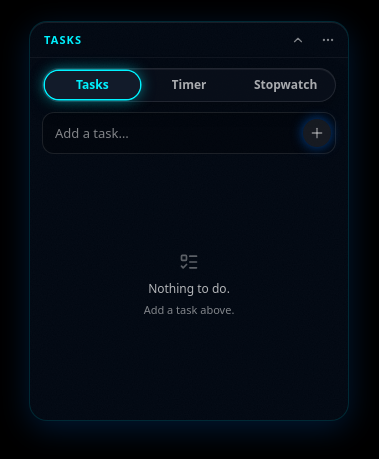
Test: ToolsWidget › the tabs switch tools, and the active tool is saved per display
Step 1. Click the tab "Timer" → (189, 85), box [142,71,236,99]
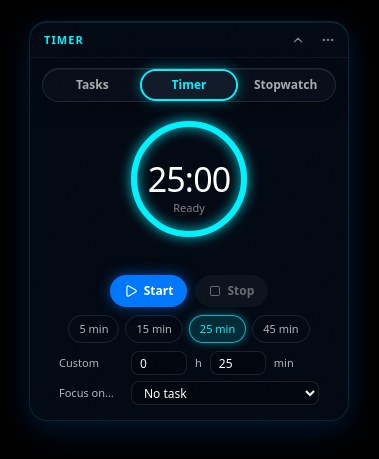
expect the heading "Timer" is shown: met, box [44,32,84,47]
expect the panel named "Timer" is shown: met, box [42,112,336,408]
expect the text named "Time left" reads "25:00": met, box [148,156,230,202]
Step 2. Click the tab "Tasks" → (92, 85), box [45,71,140,99]
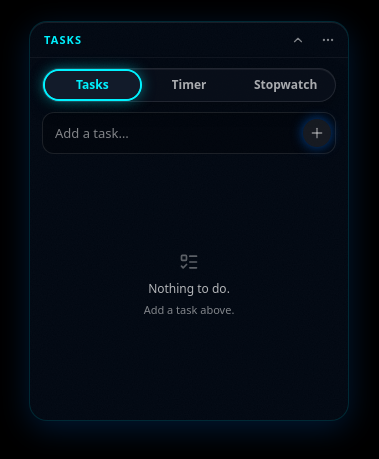
expect the heading "Tasks" is shown: met, box [44,32,82,47]
Step 3. Click the tab "Stopwatch" → (286, 85), box [238,71,333,99]
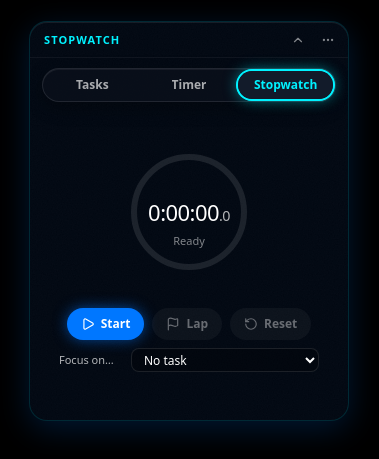
expect the heading "Stopwatch" is shown: met, box [44,32,120,47]
expect the panel named "Stopwatch" is shown: met, box [42,112,336,408]
expect the element named "Elapsed time" reads "0:00:00.0": met, box [148,196,230,228]
